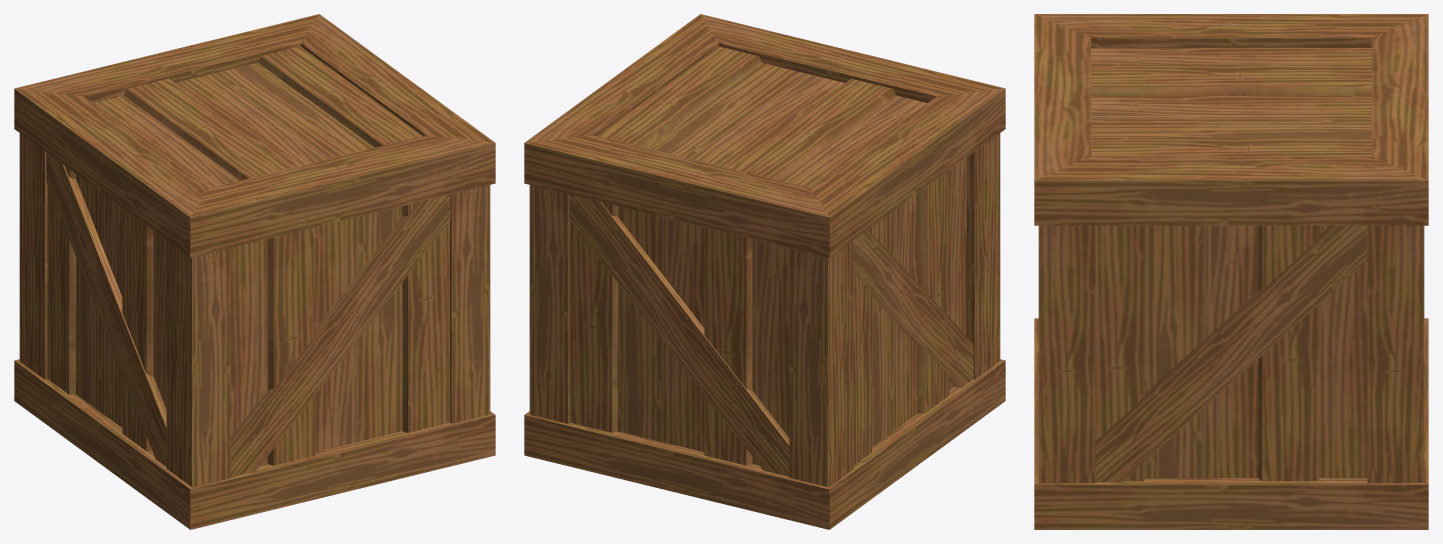
File: Prop_Crate.glb
3 renders of one model, left to right at view 1: azimuth 30°, elevation 25°; view 2: azimuth 150°, elevation 25°; view 3: azimuth 270°, elevation 25°, orthographic. The views are drawn at different scales.
Parts seen in each view (by area): view 1: Prop_Crate; view 2: Prop_Crate; view 3: Prop_Crate.
Part boxes in pixels (<box>): Prop_Crate: <box>14,14,495,529</box>; Prop_Crate: <box>524,14,1005,529</box>; Prop_Crate: <box>1034,14,1428,529</box>.
Size of the model in its own units: 1.08 by 1.06 by 1.08.
Materials: 1 (1 with a texture image).
